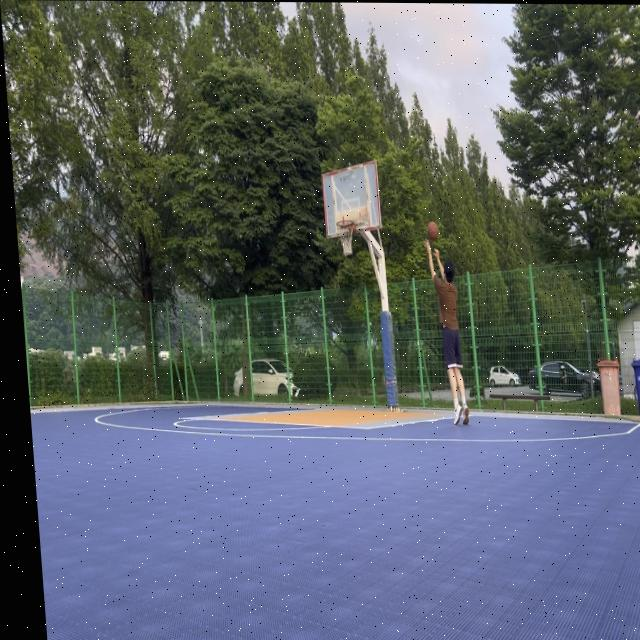basketball: (426, 221, 439, 242)
hoop: (336, 220, 357, 257)
